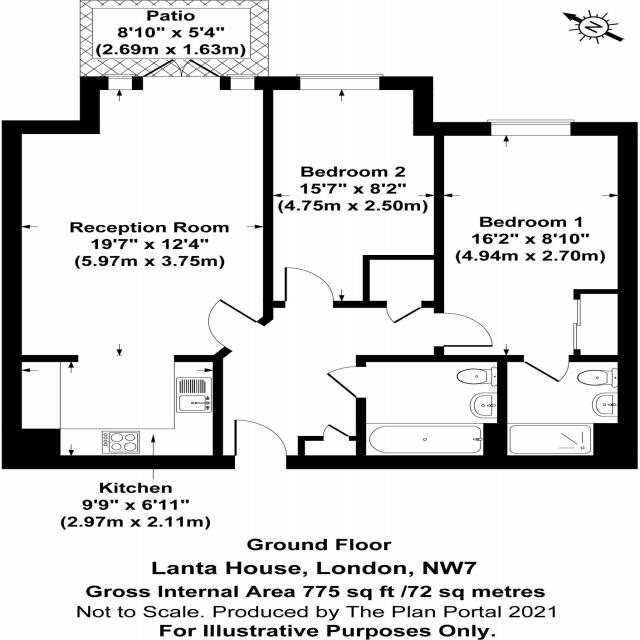DOOR: (207, 297, 265, 353), (231, 418, 289, 469), (434, 310, 495, 349), (282, 266, 337, 308), (321, 361, 366, 399), (521, 354, 572, 383)
ROOM: (1, 73, 274, 470), (432, 121, 638, 385), (262, 73, 445, 309)
SLIDING DOOR: (572, 297, 583, 352)
WINDOW: (296, 73, 385, 91), (485, 119, 577, 136), (104, 74, 144, 90), (223, 73, 260, 90)
